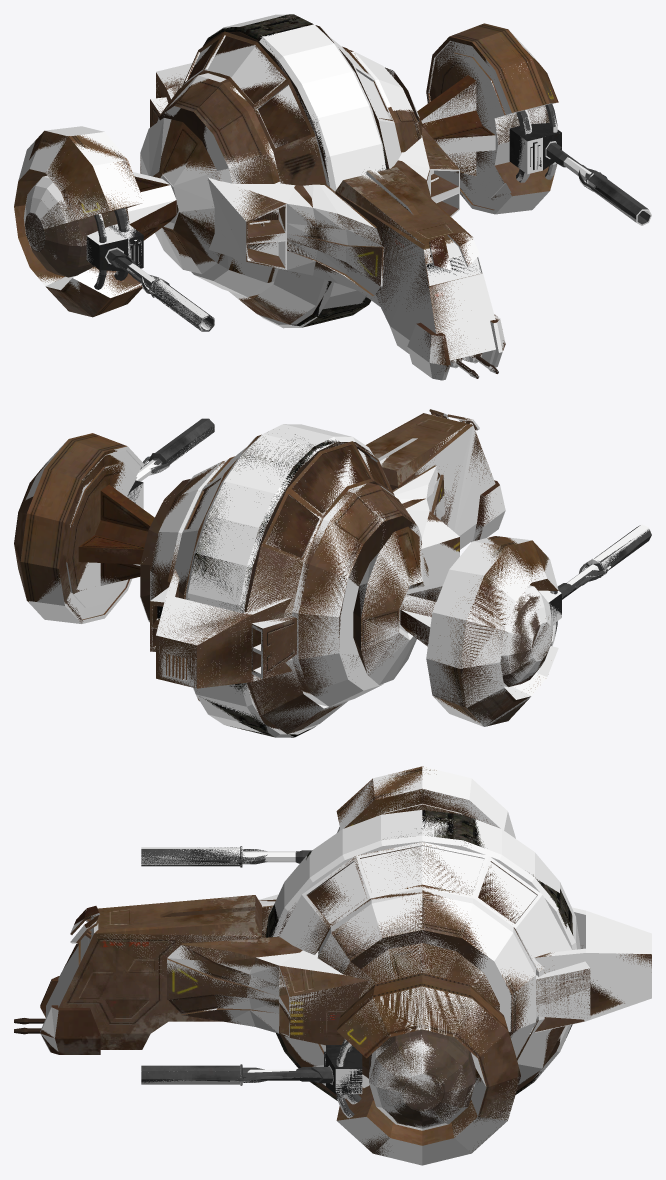
The model's file is Mandalorian_Tank.obj.
3 views of the same model, one above another, from view 1: azimuth 30°, elevation 25°; view 2: azimuth 150°, elevation 25°; view 3: azimuth 270°, elevation 25° (orthographic). The views are drawn at different scales.
Visible parts, largest first — view 1: Hull_Shadow, Hull, Tread_R; view 2: Hull, Hull_Shadow, Tread_R; view 3: Hull, Hull_Shadow, Tread_R.
Part boxes in pixels (x1,y1,x2,y2): Hull_Shadow: (18,14,651,380); Hull: (14,23,650,378); Tread_R: (203,14,387,327); Hull: (14,409,651,734); Hull_Shadow: (25,409,649,737); Tread_R: (187,434,372,737); Hull: (14,766,651,1156); Hull_Shadow: (40,766,651,1165); Tread_R: (265,810,573,1100).
Size of the model in its own units: 85.98 by 45.63 by 91.42.
